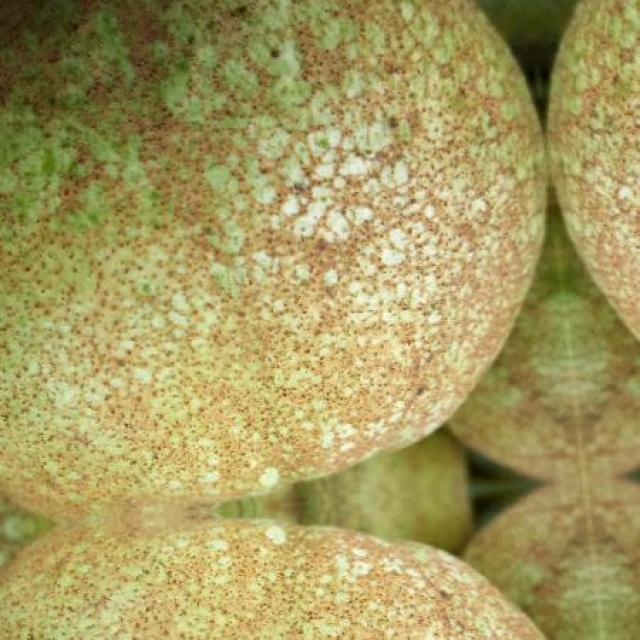Scab: (0, 0, 546, 499), (0, 520, 545, 640)
